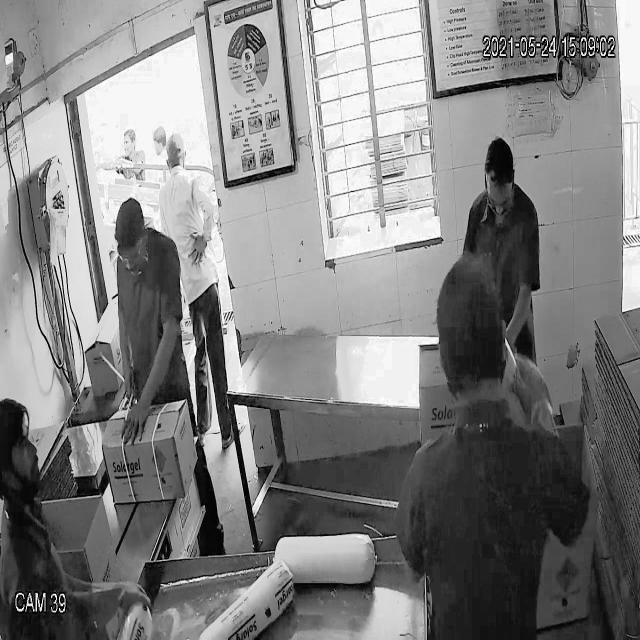glasses: (114, 232, 146, 268)
